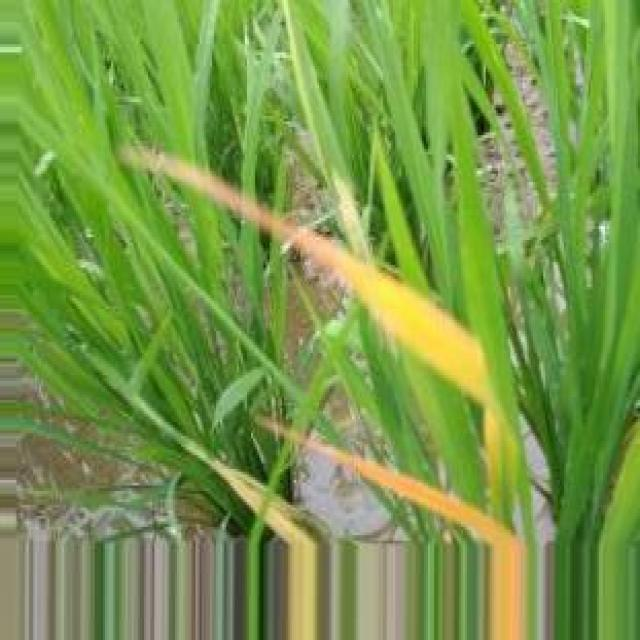Rice Tungro: (124, 147, 493, 406), (261, 420, 525, 638)
